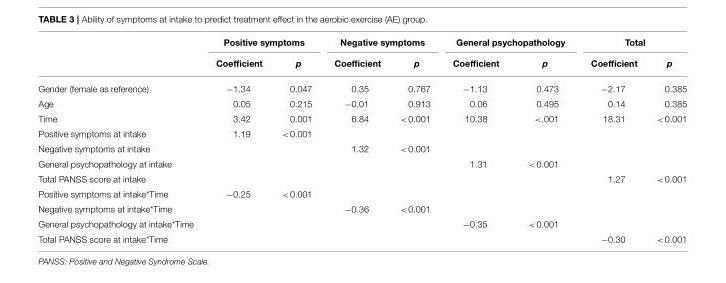table: (37, 37, 686, 243)
table column: (37, 37, 204, 243), (440, 37, 512, 243), (577, 37, 646, 243), (204, 37, 271, 243), (322, 37, 389, 243), (512, 37, 577, 243), (271, 37, 322, 243), (389, 37, 440, 243), (646, 37, 686, 243)
table column header: (37, 37, 686, 75)
table row: (37, 52, 686, 75), (37, 75, 686, 96), (37, 37, 686, 52), (37, 96, 686, 111), (37, 111, 686, 126), (37, 126, 686, 141), (37, 141, 686, 156), (37, 156, 686, 171), (37, 171, 686, 186), (37, 186, 686, 201), (37, 201, 686, 216), (37, 216, 686, 231), (37, 231, 686, 243)
table spanning cell: (440, 37, 577, 52), (204, 37, 322, 52), (322, 37, 440, 52), (577, 37, 686, 52)
